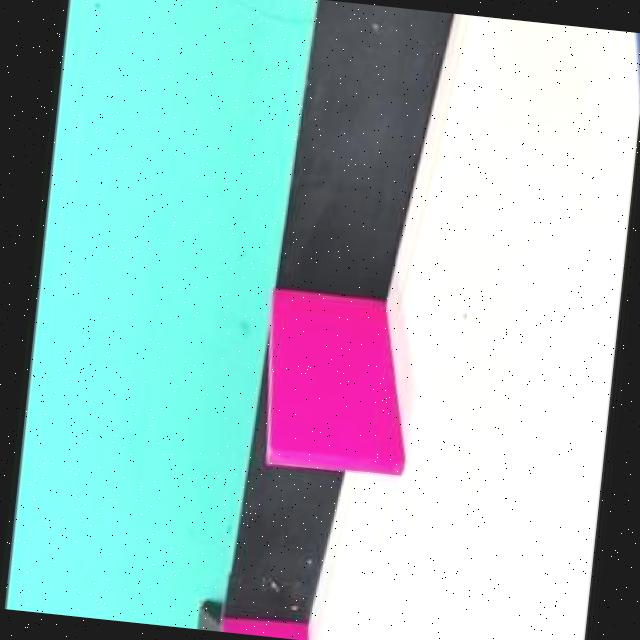xparking: (276, 297, 404, 467), (231, 624, 317, 640)
